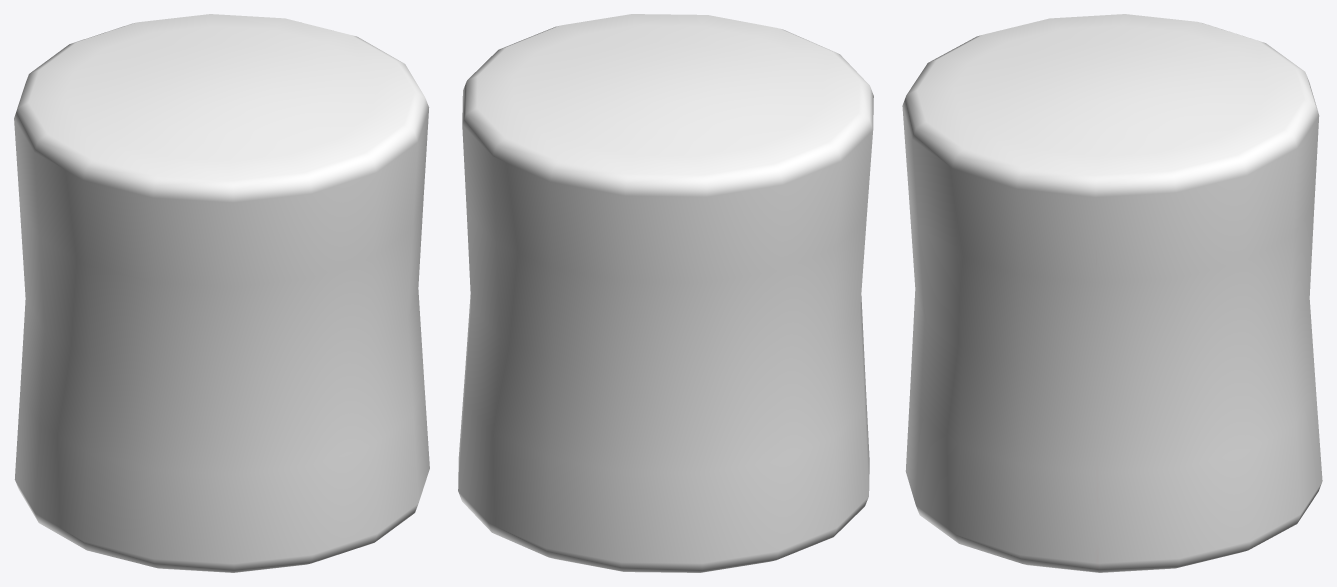
File: Marshmallow.fbx
The picture shows the model from 3 angles, left to right: view 1: azimuth 30°, elevation 25°; view 2: azimuth 150°, elevation 25°; view 3: azimuth 270°, elevation 25°; orthographic projection.
Visible parts, largest first — view 1: marshmallow_1; view 2: marshmallow_1; view 3: marshmallow_1.
Boxes of the visible parts, <box> form: marshmallow_1: <box>14,14,429,572</box>; marshmallow_1: <box>458,14,873,572</box>; marshmallow_1: <box>902,14,1322,572</box>.
Size of the model in its own units: 81.82 by 88.6 by 81.92.
Materials: 1 (1 with a texture image).
